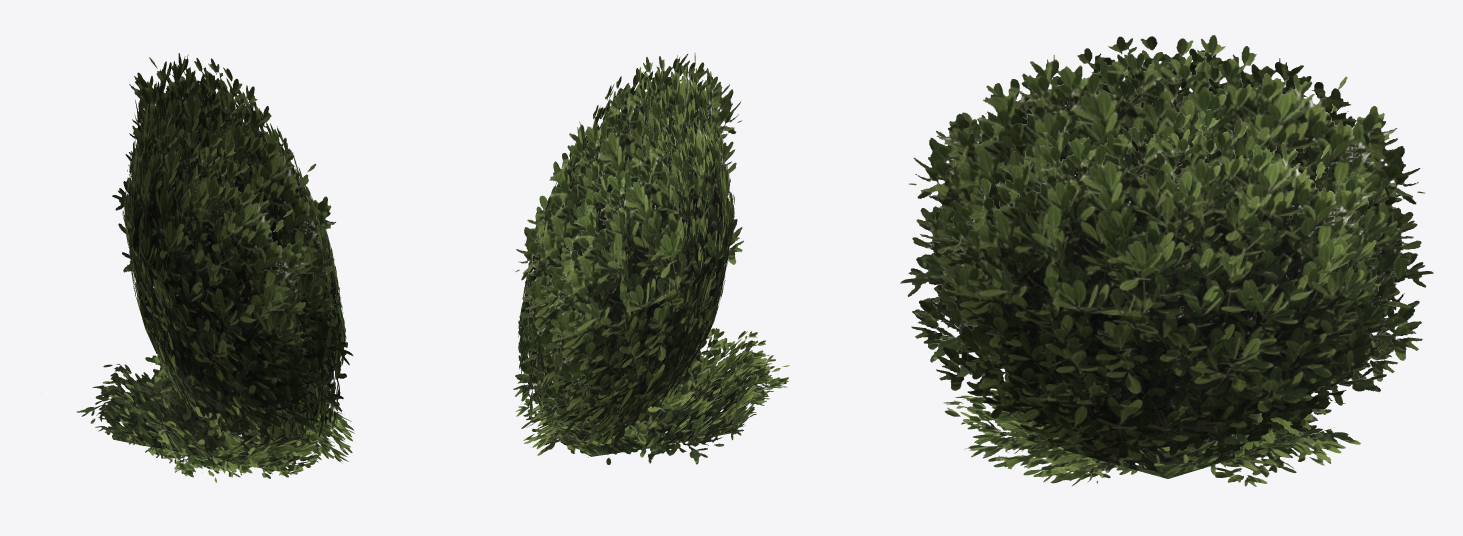
File: Bush04a.fbx
3 views of the same model, side by side, from view 1: azimuth 30°, elevation 25°; view 2: azimuth 150°, elevation 25°; view 3: azimuth 270°, elevation 25° (orthographic). The views are drawn at different scales.
Parts seen in each view (by area): view 1: Bush04a; view 2: Bush04a; view 3: Bush04a.
Boxes of the visible parts, left/top/right/bottom form: Bush04a: left=76, top=53, right=354, bottom=482; Bush04a: left=513, top=53, right=789, bottom=464; Bush04a: left=900, top=35, right=1433, bottom=486.
Bounding box in the file's own units: 0.4514 × 0.7727 × 0.8423.
